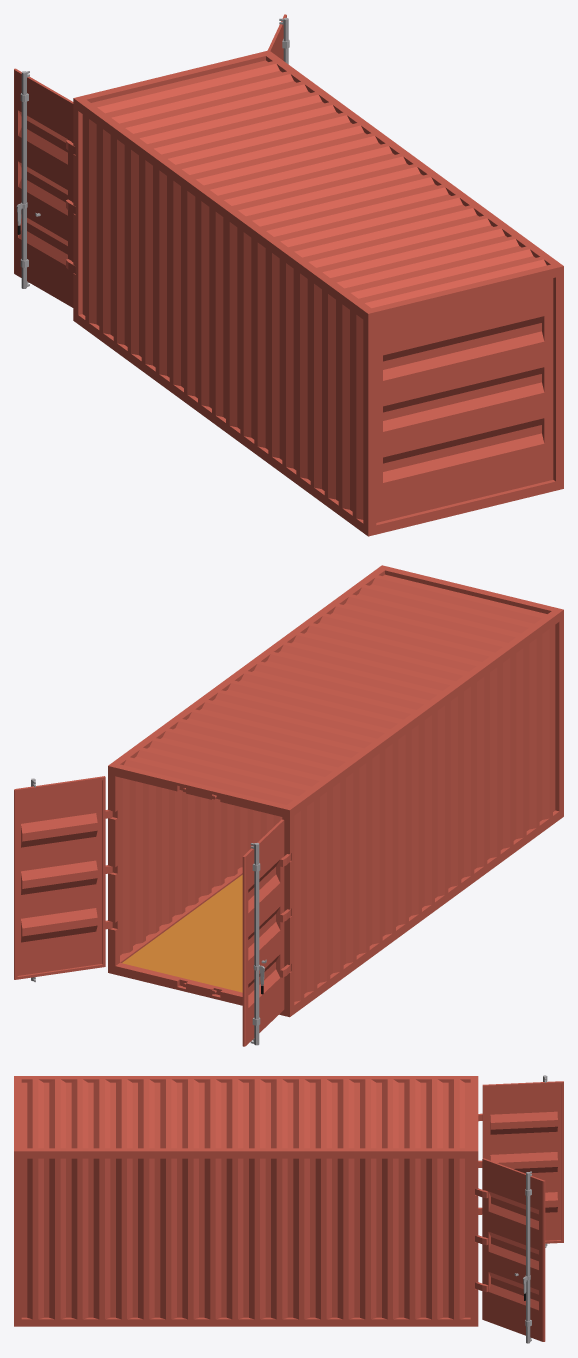
File: uploads_files_2255915_container_with_normals.fbx
3 views of the same model, one above another, from view 1: azimuth 30°, elevation 25°; view 2: azimuth 150°, elevation 25°; view 3: azimuth 270°, elevation 25° (orthographic). The views are drawn at different scales.
Visible parts, largest first — view 1: container, right_door, rod_right; view 2: container, left_door, right_door, floor, rod_right; view 3: container, left_door, right_door, rod_left.
Boxes of the visible parts, bbox=[...] form: container: bbox=[73, 50, 563, 536]; right_door: bbox=[14, 68, 75, 307]; rod_right: bbox=[16, 71, 29, 288]; container: bbox=[108, 565, 563, 1017]; left_door: bbox=[14, 776, 112, 979]; right_door: bbox=[242, 819, 291, 1046]; floor: bbox=[122, 875, 242, 992]; rod_right: bbox=[250, 842, 264, 1045]; container: bbox=[14, 1076, 478, 1326]; left_door: bbox=[475, 1158, 545, 1341]; right_door: bbox=[478, 1081, 563, 1243]; rod_left: bbox=[523, 1171, 531, 1343].
Bounding box in the file's own units: 317 × 250 × 711.
